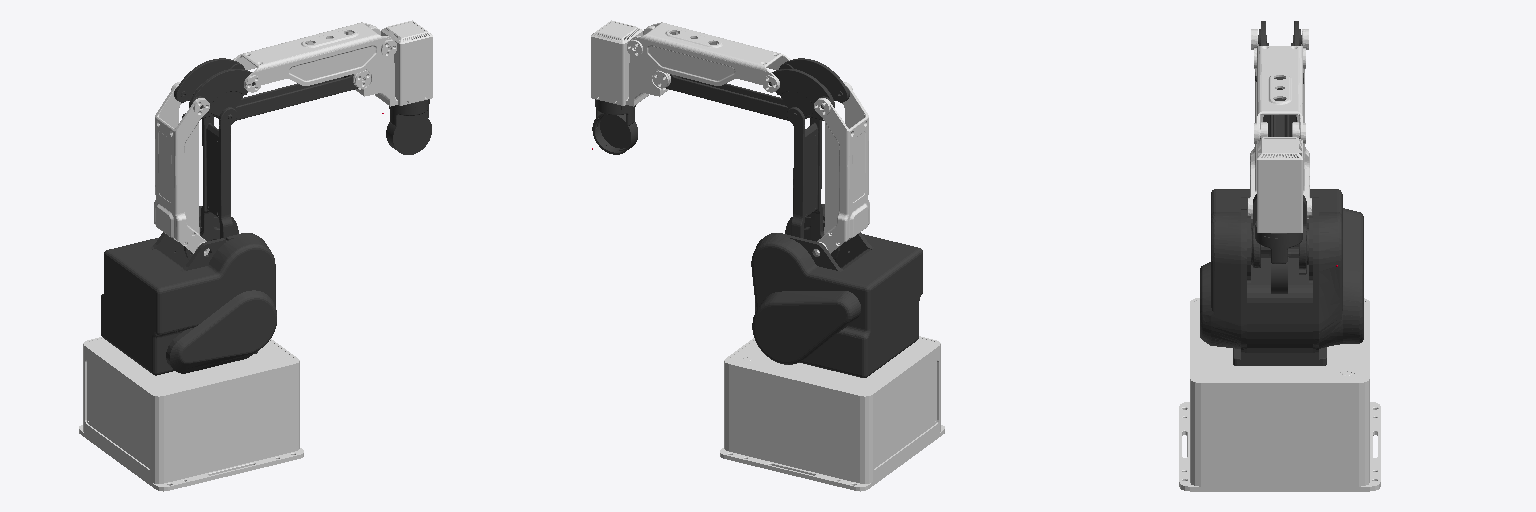
robot.urdf — mg400:
<?xml version="1.0" encoding="utf-8"?>
<!-- This URDF was automatically created by SolidWorks to URDF Exporter! Originally created by [author] ([email redacted]) 
     Commit Version: 1.6.0-1-g15f4949  Build Version: 1.6.7594.29634
     For more information, please see http://wiki.ros.org/sw_urdf_exporter -->
<robot name="mg400">
  <material name="TransparentRed">
    <color rgba="0.9 0 0.2 0.5"/>
  </material>
  <!-- Colors -->
  <material name="DarkGrey">
    <color rgba="0.3 0.3 0.3 1.0"/>
  </material>
  <material name="Grey">
    <color rgba="0.4 0.4 0.4 1.0"/>
  </material>
  <material name="Orange">
    <color rgba="1.0 0.423529411765 0.0392156862745 1.0"/>
  </material>
  <material name="Blue">
    <color rgba="0 0.1 1.0 1.0"/>
  </material>
  <material name="LightGrey">
    <color rgba="0.9 0.9 0.9 1.0"/>
  </material>
  <material name="Red">
    <color rgba="0.9 0 0.2 1.0"/>
  </material>
  <material name="TransparentRed">
    <color rgba="0.9 0 0.2 0.5"/>
  </material>
  <material name="Green">
    <color rgba="0 0.9 0.5 1.0"/>
  </material>
  <material name="Yellow">
    <color rgba="0.7 0.7 0 1.0"/>
  </material>
  <material name="LightBlue">
    <color rgba="0. 0.3 1.0 1.0"/>
  </material>
  <material name="Black">
    <color rgba="0.05 0.05 0.05 1.0"/>
  </material>
  <material name="White">
    <color rgba="1.0 1.0 1.0 1.0" />
  </material>

  
    <link name="base_link">
        <inertial>
            <origin xyz="0.000600637001378879 -2.53487071137343E-07 0.0560927888040551" rpy="0 0 0"/>
            <mass value="3.62164811695094"/>
            <inertia
                    ixx="0.0126582175296405"
                    ixy="6.66832041405407E-08"
                    ixz="-3.52548281362717E-06"
                    iyy="0.0145891535260188"
                    iyz="5.15901657460475E-08"
                    izz="0.0195045116656827"/>
        </inertial>
        <visual>
            <origin xyz="0 0 0" rpy="0 0 0"/>
            <geometry>
                <mesh filename="package://mg400/meshes/base_link.STL"/>
            </geometry>
            <material name="LightGrey"/>

        </visual>
        <collision>
            <origin xyz="0 0 0" rpy="0 0 0"/>
            <geometry>
                <mesh filename="package://mg400/meshes/base_link.STL"/>
            </geometry>
        </collision>
    </link>

    <link name="link1">
        <inertial>
            <origin xyz="-0.0046209286967387 -6.88107982318643E-05 0.0709919358465827" rpy="0 0 0"/>
            <mass value="1.77056222753813"/>
            <inertia
                    ixx="0.00605885293080088"
                    ixy="0.000156081820035162"
                    ixz="-0.00021785654850453"
                    iyy="0.00579381982249127"
                    iyz="6.20876898015621E-05"
                    izz="0.00741058257251941"/>
        </inertial>
        <visual>
            <origin xyz="0 0 0" rpy="0 0 0"/>
            <geometry>
                <mesh filename="package://mg400/meshes/link1.STL"/>
            </geometry>
            <material name="DarkGrey"/>
        </visual>
        <collision>
            <origin xyz="0 0 0" rpy="0 0 0"/>
            <geometry>
                <mesh filename="package://mg400/meshes/link1.STL"/>
            </geometry>
        </collision>
    </link>

    <joint name="j1" type="revolute">
        <origin xyz="-0.00500000000000002 0 0.109" rpy="0 0 0"/>
        <parent link="base_link"/>
        <child link="link1"/>
        <axis xyz="0 0 1"/>
        <limit lower="-3.14" upper="3.14" effort="0" velocity="0"/>
    </joint>

    <link name="link2_1">
        <inertial>
            <origin xyz="-0.00321788524756698 0.0352926570826593 0.0596131328734945" rpy="0 0 0"/>
            <mass value="0.0866115884541459"/>
            <inertia
                    ixx="0.000338551627157209"
                    ixy="-2.78858228577314E-09"
                    ixz="1.05212346076681E-05"
                    iyy="0.000307789653713489"
                    iyz="-1.36109590152488E-06"
                    izz="3.89949940178023E-05"/>
        </inertial>
        <visual>
            <origin xyz="0 0 0" rpy="0 0 0"/>
            <geometry>
                <mesh filename="package://mg400/meshes/link2_1.STL"/>
            </geometry>
            <material name="DarkGrey"/>
        </visual>
        <collision>
            <origin xyz="0 0 0" rpy="0 0 0"/>
            <geometry>
                <mesh filename="package://mg400/meshes/link2_1.STL"/>
            </geometry>
        </collision>
    </link>

    <joint name="j2_1" type="revolute">
        <origin xyz="0.0435007595118091 -0.0357748756218899 0.118995682641123" rpy="0 0 0"/>
        <parent link="link1"/>
        <child link="link2_1"/>
        <axis xyz="0 1 0"/>
        <limit lower="-3.14" upper="3.14" effort="0" velocity="0"/>
    </joint>

    <link name="link3_1">
        <inertial>
            <origin xyz="0.0821679417596488 0.000113044685842874 -0.00333758753063973" rpy="0 0 0"/>
            <mass value="0.0375214831045061"/>
            <inertia
                    ixx="2.54761091812684E-06"
                    ixy="3.73102654491378E-07"
                    ixz="-2.02625705871199E-06"
                    iyy="0.000164234314177935"
                    iyz="-1.44731096825347E-08"
                    izz="0.000164331500854172"/>
        </inertial>
        <visual>
            <origin xyz="0 0 0" rpy="0 0 0"/>
            <geometry>
                <mesh filename="package://mg400/meshes/link3_1.STL"/>
            </geometry>
            <material name="DarkGrey"/>
        </visual>
        <collision>
            <origin xyz="0 0 0" rpy="0 0 0"/>
            <geometry>
                <mesh filename="package://mg400/meshes/link3_1.STL"/>
            </geometry>
        </collision>
    </link>

    <joint name="j3_1" type="revolute">
        <origin xyz="-0.0010512570171516 0.0357748756218898 0.175001164344716" rpy="0 0 0"/>
        <parent link="link2_1"/>
        <child link="link3_1"/>
        <axis xyz="0 1 0"/>
        <limit lower="-3.14" upper="3.14" effort="0" velocity="0"/>
    </joint>

    <link name="link4_1">
        <inertial>
            <origin xyz="0.0387878182928232 0.0170848333998282 -0.0024610990490942" rpy="0 0 0"/>
            <mass value="0.0628979533925801"/>
            <inertia
                    ixx="4.78483605712844E-05"
                    ixy="1.42081909356751E-07"
                    ixz="8.32917079044309E-06"
                    iyy="5.42362047732042E-05"
                    iyz="-2.90608446019989E-08"
                    izz="3.36120409842199E-05"/>
        </inertial>
        <visual>
            <origin xyz="0 0 0" rpy="0 0 0"/>
            <geometry>
                <mesh filename="package://mg400/meshes/link4_1.STL"/>
            </geometry>
            <material name="LightGrey"/>
        </visual>
        <collision>
            <origin xyz="0 0 0" rpy="0 0 0"/>
            <geometry>
                <mesh filename="package://mg400/meshes/link4_1.STL"/>
            </geometry>
        </collision>
    </link>

    <joint name="j4_1" type="revolute">
        <origin xyz="0.174969784055705 -0.0170000000000335 0.00325187137614585" rpy="0 0 0"/>
        <parent link="link3_1"/>
        <child link="link4_1"/>
        <axis xyz="0 1 0"/>
        <limit lower="-3.14" upper="3.14" effort="0" velocity="0"/>
    </joint>

    <link name="link5">
        <inertial>
            <origin xyz="4.24246458685662E-07 3.08507851181768E-14 -0.0349688816440933" rpy="0 0 0"/>
            <mass value="0.0965276919819365"/>
            <inertia
                    ixx="4.98589992160928E-05"
                    ixy="-1.534865545378E-12"
                    ixz="3.46424449605658E-10"
                    iyy="4.98589881725446E-05"
                    iyz="-5.64890953414983E-17"
                    izz="2.130463008359E-05"/>
        </inertial>
        <visual>
            <origin xyz="0 0 0" rpy="0 0 0"/>
            <geometry>
                <mesh filename="package://mg400/meshes/link5.STL"/>
            </geometry>
            <material name="LightGrey"/>
        </visual>
        <collision>
            <origin xyz="0 0 0" rpy="0 0 0"/>
            <geometry>
                <mesh filename="package://mg400/meshes/link5.STL"/>
            </geometry>
        </collision>
    </link>

    <joint name="j5" type="revolute">
        <origin xyz="0.0659996239003897 0.0170000000000371 0.031000800715573" rpy="0 0 0"/>
        <parent link="link4_1"/>
        <child link="link5"/>
        <axis xyz="-1.19408295462994E-05 0 0.999999999928708"/>
        <limit lower="-3.14" upper="3.14" effort="0" velocity="0"/>
    </joint>

    <link name="link2_2">
        <inertial>
            <origin xyz="-0.0201111131723385 0.0304999635268521 0.073632809340276" rpy="0 0 0"/>
            <mass value="0.0662546292985346"/>
            <inertia
                    ixx="0.000218973873589181"
                    ixy="3.0147933007673E-10"
                    ixz="2.51402553227571E-06"
                    iyy="0.000200510070261609"
                    iyz="-1.41837669904595E-09"
                    izz="3.74316777806776E-05"/>
        </inertial>
        <visual>
            <origin xyz="0 0 0" rpy="0 0 0"/>
            <geometry>
                <mesh filename="package://mg400/meshes/link2_2.STL"/>
            </geometry>
            <material name="LightGrey"/>
        </visual>
        <collision>
            <origin xyz="0 0 0" rpy="0 0 0"/>
            <geometry>
                <mesh filename="package://mg400/meshes/link2_2.STL"/>
            </geometry>
        </collision>
    </link>

    <joint name="j2_2" type="revolute">
        <origin xyz="0.00452885682964267 -0.0305 0.141500000000001" rpy="0 0 0"/>
        <parent link="link1"/>
        <child link="link2_2"/>
        <axis xyz="0 1 0"/>
        <limit lower="-3.14" upper="3.14" effort="0" velocity="0"/>
    </joint>

    <link name="link3_2">
        <inertial>
            <origin xyz="0.0338566736074436 0.0240208873857428 0.00452229895926692" rpy="0 0 0"/>
            <mass value="0.0366692789294813"/>
            <inertia
                    ixx="7.24011830695354E-06"
                    ixy="7.93542746250724E-10"
                    ixz="-1.69163254472566E-06"
                    iyy="2.34967008246727E-05"
                    iyz="4.55507111386579E-10"
                    izz="1.66831643179488E-05"/>
        </inertial>
        <visual>
            <origin xyz="0 0 0" rpy="0 0 0"/>
            <geometry>
                <mesh filename="package://mg400/meshes/link3_2.STL"/>
            </geometry>
            <material name="DarkGrey"/>
        </visual>
        <collision>
            <origin xyz="0 0 0" rpy="0 0 0"/>
            <geometry>
                <mesh filename="package://mg400/meshes/link3_2.STL"/>
            </geometry>
        </collision>
    </link>

    <joint name="j3_2" type="revolute">
        <origin xyz="-0.00105049750546494 0.00649999999999986 0.174996846985851" rpy="0 0 0"/>
        <parent link="link2_2"/>
        <child link="link3_2"/>
        <axis xyz="0 1 0"/>
        <limit lower="-3.14" upper="3.14" effort="0" velocity="0"/>
    </joint>

    <link name="link4_2">
        <inertial>
            <origin xyz="0.0876391591012518 0.023499867452275 0.00831492252441945" rpy="0 0 0"/>
            <mass value="0.0453569016333092"/>
            <inertia
                    ixx="2.00037596001325E-05"
                    ixy="3.34474706250153E-09"
                    ixz="2.17594982354756E-07"
                    iyy="0.000132049841023893"
                    iyz="5.36978669669685E-10"
                    izz="0.000141813978894428"/>
        </inertial>
        <visual>
            <origin xyz="0 0 0" rpy="0 0 0"/>
            <geometry>
                <mesh filename="package://mg400/meshes/link4_2.STL"/>
            </geometry>
            <material name="LightGrey"/>
        </visual>
        <collision>
            <origin xyz="0 0 0" rpy="0 0 0"/>
            <geometry>
                <mesh filename="package://mg400/meshes/link4_2.STL"/>
            </geometry>
        </collision>
    </link>

    <joint name="j4_2" type="revolute">
        <origin xyz="0.0678965856063864 0.000500000000000073 0.0119719999403219" rpy="0 0 0"/>
        <parent link="link3_2"/>
        <child link="link4_2"/>
        <axis xyz="0 1 0"/>
        <limit lower="-3.14" upper="3.14" effort="0" velocity="0"/>
    </joint>

  <!--dummy joint-->
  <joint name="ee_joint" type="fixed">
    <parent link="link5"/>
    <child link="ee_link"/>
    <origin xyz="0 0 -0.065" rpy="0 0 0"/>
  </joint>

  <link name="ee_link">
    <visual>
      <origin rpy="0 0 0" xyz="0 0 0"/>
      <geometry>
        <sphere radius="0.005"/>
      </geometry>
        <material name="Red"/>
    </visual>
    <collision>
      <geometry>
        <sphere radius="0.001"/>
      </geometry>
      <origin rpy="0 0 0" xyz="0.0 0 0"/>
    </collision>
    <inertial>
      <mass value="0.0"/>
      <origin rpy="-3.14 0.0 1.57" xyz="0.0 0.0 0.0"/>
      <inertia ixx="0.001" ixy="0.0" ixz="0.0" iyy="0.001" iyz="0.0" izz="0.001"/>
    </inertial>
  </link>

        <!-- TacTip -->

      <link name="tactip_adapter_link">
        <inertial>
          <origin rpy="0 0 0" xyz="0 0 0"/>
           <mass value="0.1"/>
           <inertia ixx="0.001" ixy="0" ixz="0" iyy="0.001" iyz="0" izz="0.001"/>
        </inertial>
        <visual>
          <origin rpy="0 0 0" xyz="0 0 0"/>
          <geometry>
    				<mesh filename="../tactip/right_angle_tactip/adapter/right_angle_adapter.obj" scale="0.7 0.7 0.7"/>
          </geometry>
           <material name="blackish">
            <color rgba="0.3 0.3 0.3 1.0"/>
          </material>
        </visual>
        <collision>
          <origin rpy="0 0 0" xyz="0 0 0"/>
          <geometry>
    				<mesh filename="../tactip/right_angle_tactip/adapter/right_angle_adapter.obj" scale="0.7 0.7 0.7"/>
          </geometry>
        </collision>
      </link>

      <joint name="tactip_ee_joint" type="fixed">
        <parent link="ee_link"/>
        <child link="tactip_adapter_link"/>
        <origin rpy="0 -1.57 -1.57" xyz="0.0 -0.005 -0.052"/>
      </joint>

      <link name="tactip_body_link">
        <inertial>
          <origin rpy="0 0 0" xyz="0 0 0"/>
           <mass value="0.25"/>
           <inertia ixx="0.001" ixy="0" ixz="0" iyy="0.001" iyz="0" izz="0.001"/>
        </inertial>
        <visual>
          <origin rpy="0 0 0" xyz="0 0 0"/>
          <geometry>
    				<mesh filename="../tactip/standard_tactip/body/tactip_body.obj" scale="1.0 1.0 0.6"/>
          </geometry>
           <material name="blackish">
          </material>
        </visual>
        <collision>
          <origin rpy="0 0 0" xyz="0 0 0"/>
          <geometry>
    				<mesh filename="../tactip/standard_tactip/body/tactip_body.obj" scale="1.0 1.0 0.6"/>
          </geometry>
        </collision>
      </link>

      <joint name="tactip_body_to_adapter" type="fixed">
         <origin rpy="0 0 0" xyz="0 0 0"/>
         <parent link="tactip_adapter_link"/>
         <child link="tactip_body_link"/>
      </joint>

      <link name="tactip_tip_link">
        <contact>
          <friction_anchor/>
          <lateral_friction value="1.0"/>
        </contact>
        <inertial>
          <origin rpy="0 0 0" xyz="0 0 0"/>
           <mass value=".1"/>
           <inertia ixx="1" ixy="0" ixz="0" iyy="1" iyz="0" izz="1"/>
        </inertial>
        <visual>
          <origin rpy="0 0 0" xyz="0 0 0"/>
          <geometry>
            <mesh filename="../tactip/standard_tactip/tip/skin.obj" scale="1.0 1.0 1.0"/>
          </geometry>
           <material name="black">
            <color rgba="0.0 0.0 0.0 1.0"/>
          </material>
        </visual>
        <collision>
          <origin rpy="0 0 0" xyz="0 0 0"/>
          <geometry>
            <mesh filename="../tactip/standard_tactip/tip/core.obj" scale="1 1 1"/>
          </geometry>
        </collision>
      </link>

      <joint name="tactip_tip_to_body" type="fixed">
         <!-- <origin rpy="1.57 0 0" xyz="0 0 0.065"/> -->
         <origin rpy="1.57 0 0" xyz="0 0 0.039"/>
         <axis xyz="0 1 0"/>
         <parent link="tactip_body_link"/>
         <child link="tactip_tip_link"/>
      </joint>

      <!-- TCP -->
      <link name="tcp_link">
        <visual>
          <origin rpy="0 0 0" xyz="0 0 0"/>
          <geometry>
            <sphere radius="0.001"/>
          </geometry>
           <material name="TransparentRed"/>
        </visual>
        <inertial>
          <mass value="0.0"/>
          <origin rpy="0.0 -1.57 0.0" xyz="0.0 0.0 0.0"/>
          <inertia ixx="1.0" ixy="0.0" ixz="0.0" iyy="1.0" iyz="0.0" izz="1.0"/>
        </inertial>
      </link>

      <joint name="tcp_joint" type="fixed">
        <parent link="tactip_body_link"/>
        <child link="tcp_link"/>
        <!-- <origin rpy="0 0 0" xyz="0.0 0.0 0.085"/> -->
        <origin rpy="0 0 0" xyz="0.0 0.0 0.059"/>
      </joint>
</robot>

--- Render facts (derived) ---
The picture shows the robot from 3 angles, left to right: view 1: azimuth 30°, elevation 25°; view 2: azimuth 150°, elevation 25°; view 3: azimuth 270°, elevation 25°; orthographic projection.
Robot: mg400 — 14 links, 13 joints (8 revolute, 5 fixed); root link base_link; default pose: all joints at 0.
Visible links, largest first — view 1: base_link, link1, link2_2, link4_2, link4_1, link2_1, link3_2, link3_1, tactip_adapter_link; view 2: base_link, link1, link2_2, link4_2, link4_1, link2_1, link3_2, link3_1, tactip_adapter_link; view 3: base_link, link1, link4_1, link4_2, tactip_adapter_link, link2_2, link2_1.
Boxes of the visible links, x1=… form: base_link: x1=79, y1=337, x2=303, y2=491; link1: x1=101, y1=206, x2=276, y2=375; link2_2: x1=154, y1=82, x2=209, y2=255; link4_2: x1=233, y1=22, x2=396, y2=92; link4_1: x1=353, y1=20, x2=432, y2=106; link2_1: x1=200, y1=107, x2=236, y2=241; link3_2: x1=174, y1=58, x2=254, y2=118; link3_1: x1=182, y1=74, x2=357, y2=120; tactip_adapter_link: x1=386, y1=99, x2=431, y2=154; base_link: x1=720, y1=336, x2=944, y2=491; link1: x1=751, y1=204, x2=922, y2=377; link2_2: x1=814, y1=82, x2=869, y2=255; link4_2: x1=627, y1=22, x2=790, y2=92; link4_1: x1=591, y1=20, x2=670, y2=106; link2_1: x1=787, y1=107, x2=823, y2=241; link3_2: x1=769, y1=58, x2=849, y2=118; link3_1: x1=666, y1=74, x2=823, y2=120; tactip_adapter_link: x1=592, y1=99, x2=637, y2=154; base_link: x1=1179, y1=298, x2=1380, y2=491; link1: x1=1200, y1=189, x2=1363, y2=365; link4_1: x1=1257, y1=122, x2=1302, y2=232; link4_2: x1=1254, y1=46, x2=1305, y2=143; tactip_adapter_link: x1=1255, y1=221, x2=1302, y2=293; link2_2: x1=1248, y1=29, x2=1311, y2=218; link2_1: x1=1251, y1=73, x2=1308, y2=274.
Size in the robot's own frame: 0.4007 by 0.19 by 0.4597 metres.
Meshes: 12 distinct files referenced, 10 mesh visuals loaded (9 binary STL, 1 OBJ); not drawn: 2 (reference not matched to a file when rendering).